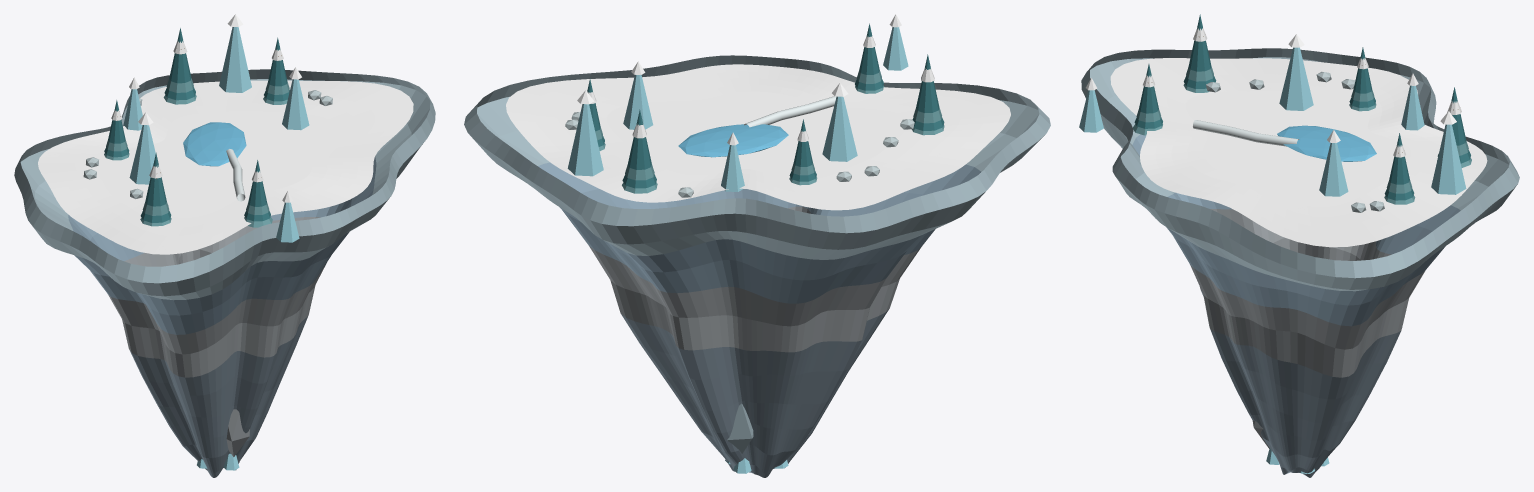
Rendered from FI-033-Stormhorn-Shelf.glb.
The picture shows the model from 3 angles, left to right: view 1: azimuth 30°, elevation 25°; view 2: azimuth 150°, elevation 25°; view 3: azimuth 270°, elevation 25°; orthographic projection. The views are drawn at different scales.
Parts seen in each view (by area): view 1: FI-033_StratifiedFloatingCliff, FI-033_BuildableTop, FrozenTarn, BlueIceSpire_02, BlueIceSpire_00, BlueIceSpire_01, FI-033_GlacialRib_02, BlueIceSpire_03, Frostfir_02_Bough_03, BlueIceSpire_04, Frostfir_00_Bough_03, SnowSaddleTrail (+1 smaller); view 2: FI-033_StratifiedFloatingCliff, FI-033_BuildableTop, FrozenTarn, BlueIceSpire_02, BlueIceSpire_00, BlueIceSpire_01, SnowSaddleTrail, BlueIceSpire_04, FI-033_GlacialRib_00, BlueIceSpire_03, Frostfir_02_Bough_03, Frostfir_00_Bough_03; view 3: FI-033_StratifiedFloatingCliff, FI-033_BuildableTop, FrozenTarn, BlueIceSpire_02, BlueIceSpire_00, BlueIceSpire_01, SnowSaddleTrail, BlueIceSpire_03, BlueIceSpire_04, Frostfir_00_Bough_03, Frostfir_03_Bough_03, Frostfir_01_Bough_03.
Boxes of the visible parts, box(x1,y1,x2,y2) form: FI-033_StratifiedFloatingCliff: box(14, 69, 435, 477); FI-033_BuildableTop: box(38, 80, 413, 254); FrozenTarn: box(183, 122, 246, 166); BlueIceSpire_02: box(219, 27, 251, 92); BlueIceSpire_00: box(129, 125, 155, 184); BlueIceSpire_01: box(282, 79, 309, 130); FI-033_GlacialRib_02: box(226, 409, 249, 456); BlueIceSpire_03: box(276, 202, 299, 242); Frostfir_02_Bough_03: box(169, 28, 191, 83); BlueIceSpire_04: box(123, 89, 142, 130); Frostfir_00_Bough_03: box(145, 152, 166, 206); SnowSaddleTrail: box(226, 149, 245, 201); FI-033_StratifiedFloatingCliff: box(464, 55, 1050, 477); FI-033_BuildableTop: box(506, 64, 1010, 210); FrozenTarn: box(678, 124, 788, 157); BlueIceSpire_02: box(567, 104, 603, 176); BlueIceSpire_00: box(822, 96, 857, 161); BlueIceSpire_01: box(623, 75, 653, 129); SnowSaddleTrail: box(744, 96, 836, 127); BlueIceSpire_04: box(721, 145, 744, 191); FI-033_GlacialRib_00: box(727, 403, 753, 453); BlueIceSpire_03: box(883, 27, 908, 70); Frostfir_02_Bough_03: box(627, 109, 651, 169); Frostfir_00_Bough_03: box(916, 54, 939, 112); FI-033_StratifiedFloatingCliff: box(1081, 48, 1519, 477); FI-033_BuildableTop: box(1110, 58, 1487, 247); FrozenTarn: box(1277, 125, 1376, 161); BlueIceSpire_02: box(1431, 124, 1466, 194); BlueIceSpire_00: box(1279, 47, 1313, 110); BlueIceSpire_01: box(1319, 143, 1348, 196); SnowSaddleTrail: box(1193, 120, 1299, 146); BlueIceSpire_03: box(1079, 90, 1103, 132); BlueIceSpire_04: box(1401, 85, 1424, 130); Frostfir_00_Bough_03: box(1188, 14, 1211, 71); Frostfir_03_Bough_03: box(1389, 133, 1409, 184); Frostfir_01_Bough_03: box(1139, 64, 1158, 113).
Bounding box in the file's own units: 14.24 × 12.09 × 11.96.
